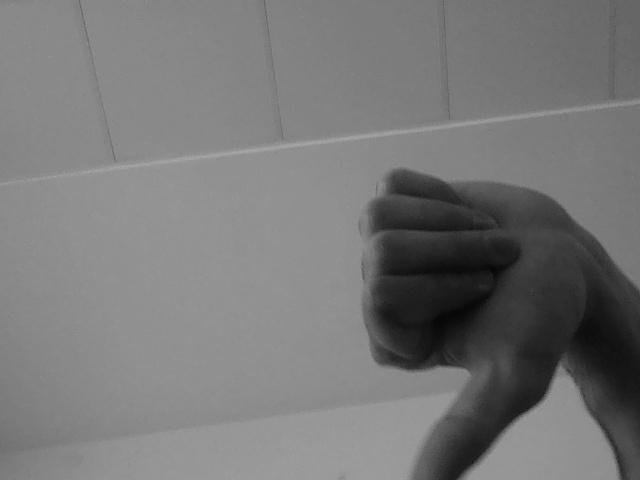bad: (374, 145, 628, 480)
